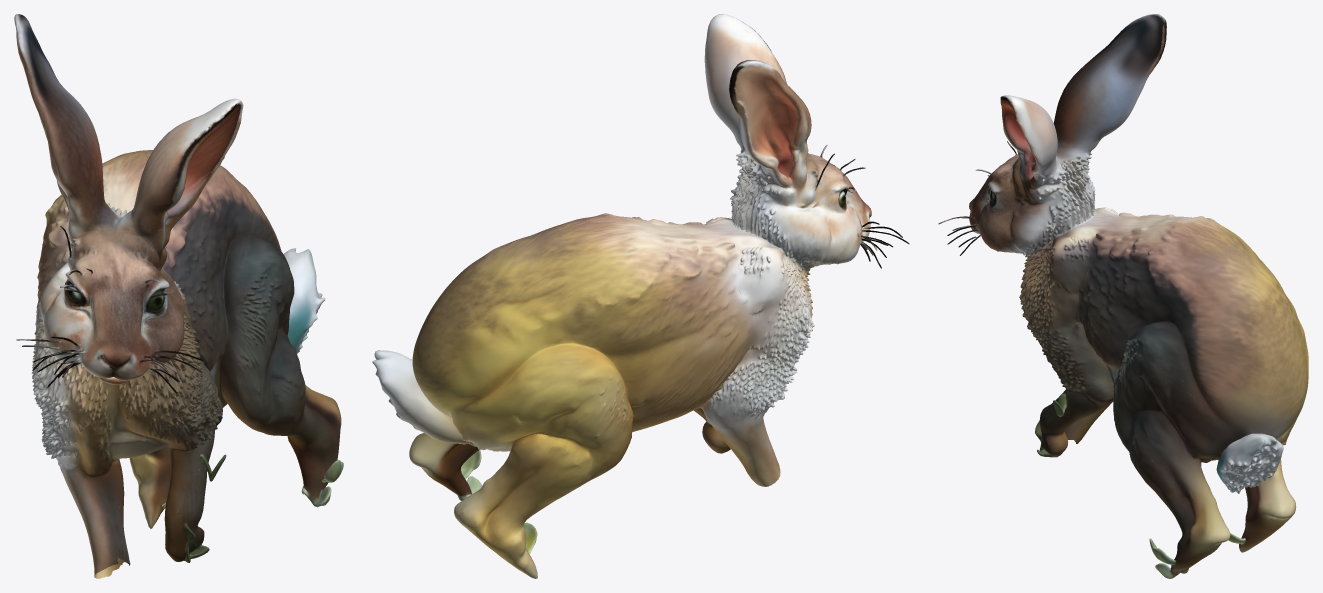
Rendered from pixal3d-01.glb.
3 renders of one model, left to right at view 1: azimuth 30°, elevation 25°; view 2: azimuth 150°, elevation 25°; view 3: azimuth 270°, elevation 25°, orthographic. The views are drawn at different scales.
Size of the model in its own units: 0.7327 by 0.9423 by 0.6777.
Materials: 1 (1 with a texture image).
